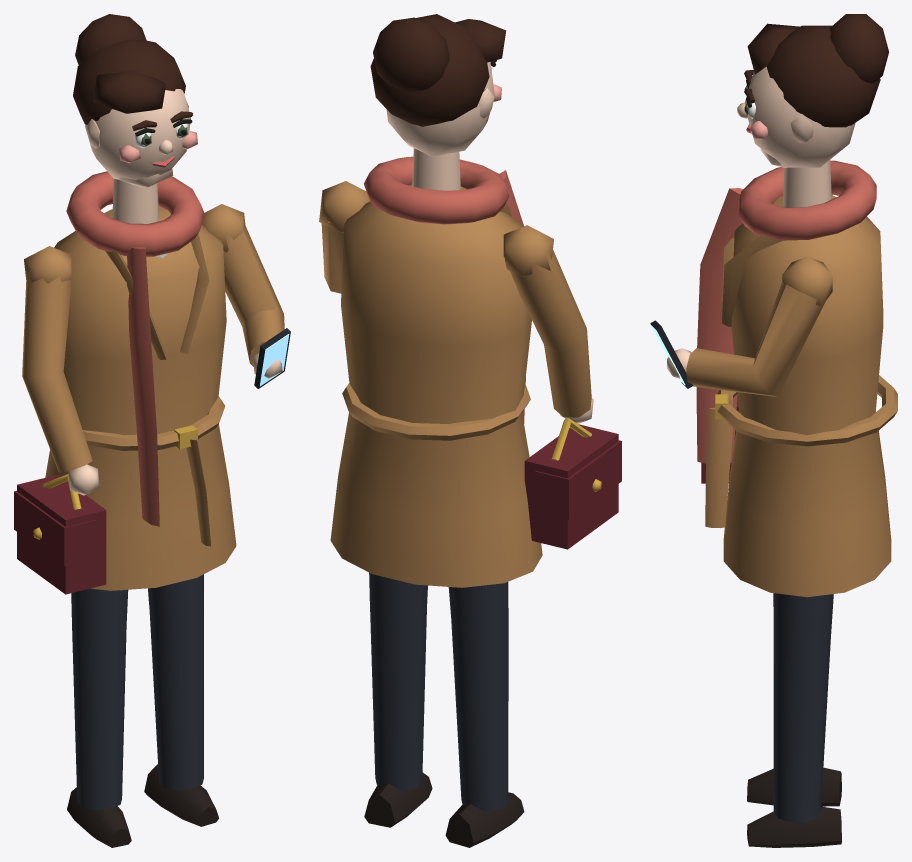
Rendered from char_mom.glb.
3 renders of one model, left to right at view 1: azimuth 30°, elevation 25°; view 2: azimuth 150°, elevation 25°; view 3: azimuth 270°, elevation 25°, orthographic. The views are drawn at different scales.
Visible parts, largest first — view 1: char_mom; view 2: char_mom; view 3: char_mom.
Part boxes in pixels (<box>): char_mom: <box>14,14,290,847</box>; char_mom: <box>319,14,621,847</box>; char_mom: <box>650,14,897,847</box>.
Size of the model in its own units: 0.5901 by 1.73 by 0.4836.
